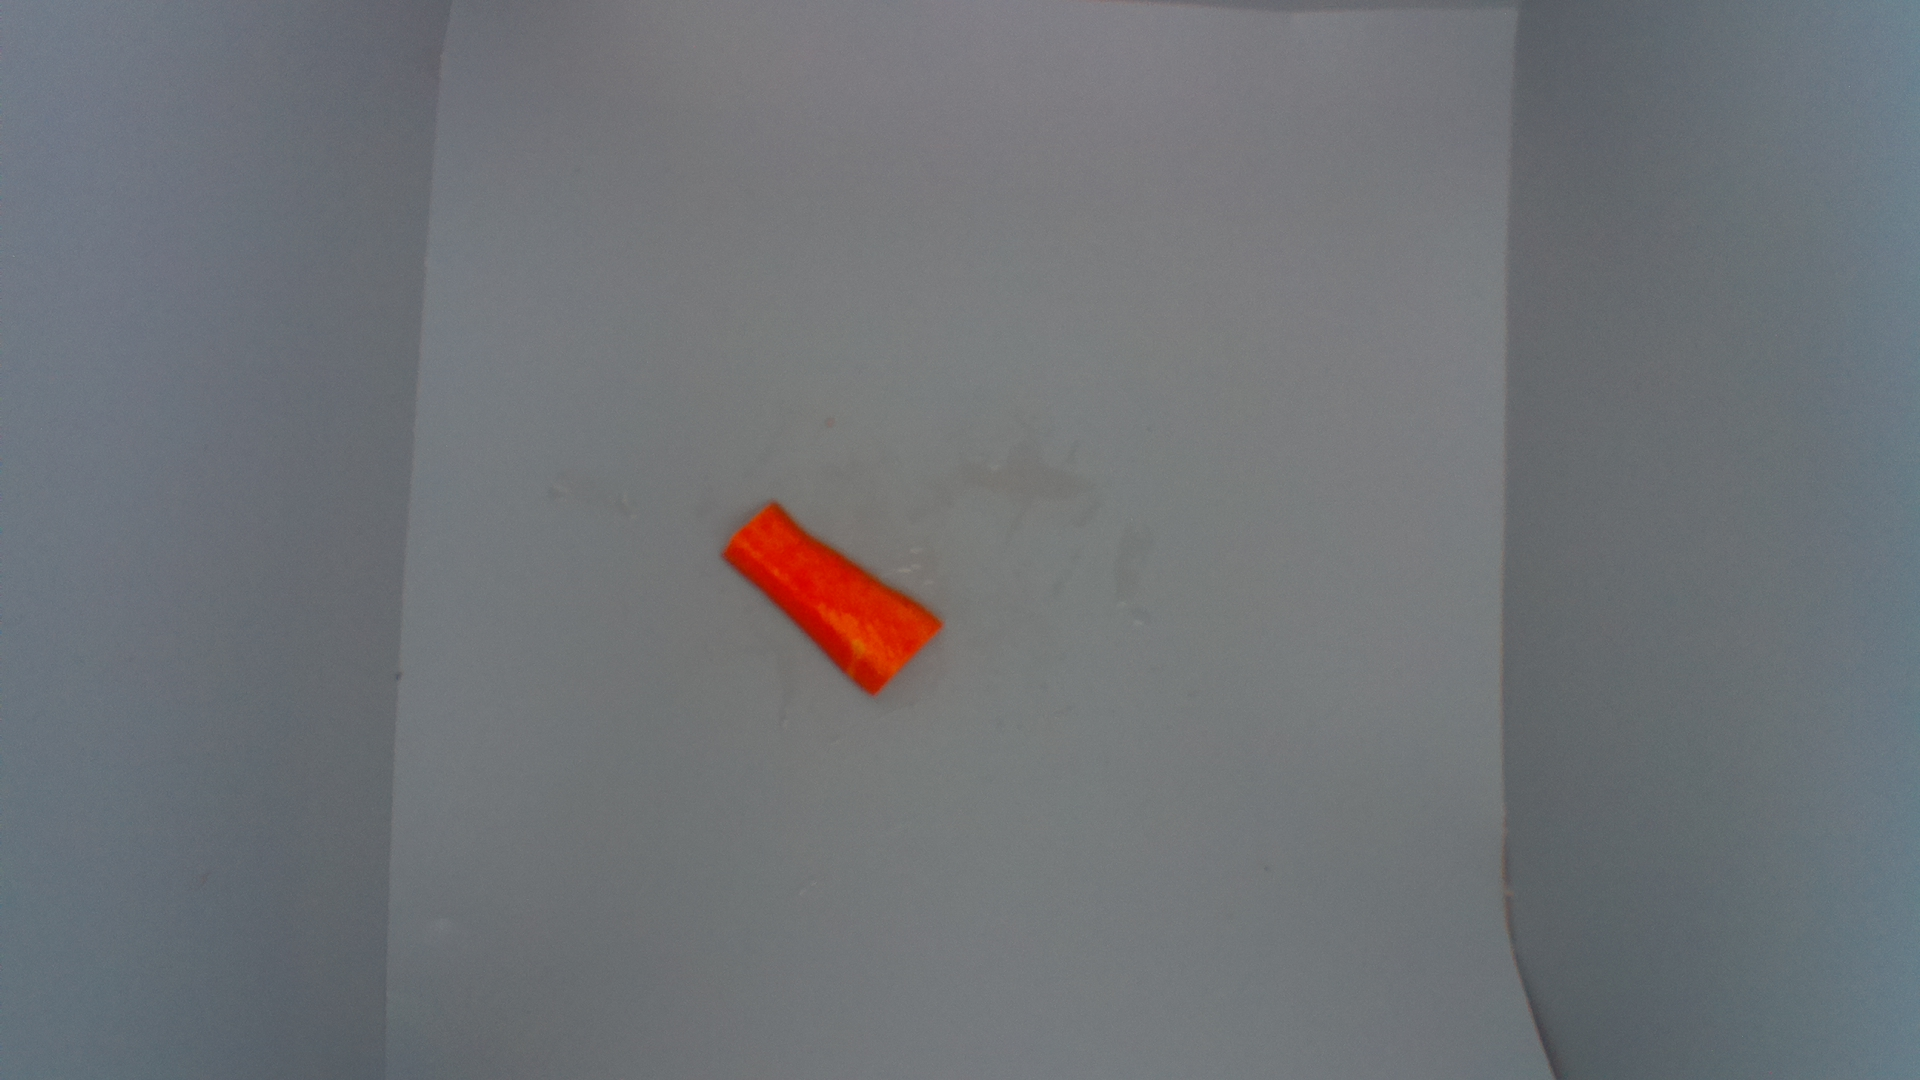carrot: (723, 493, 947, 702)
